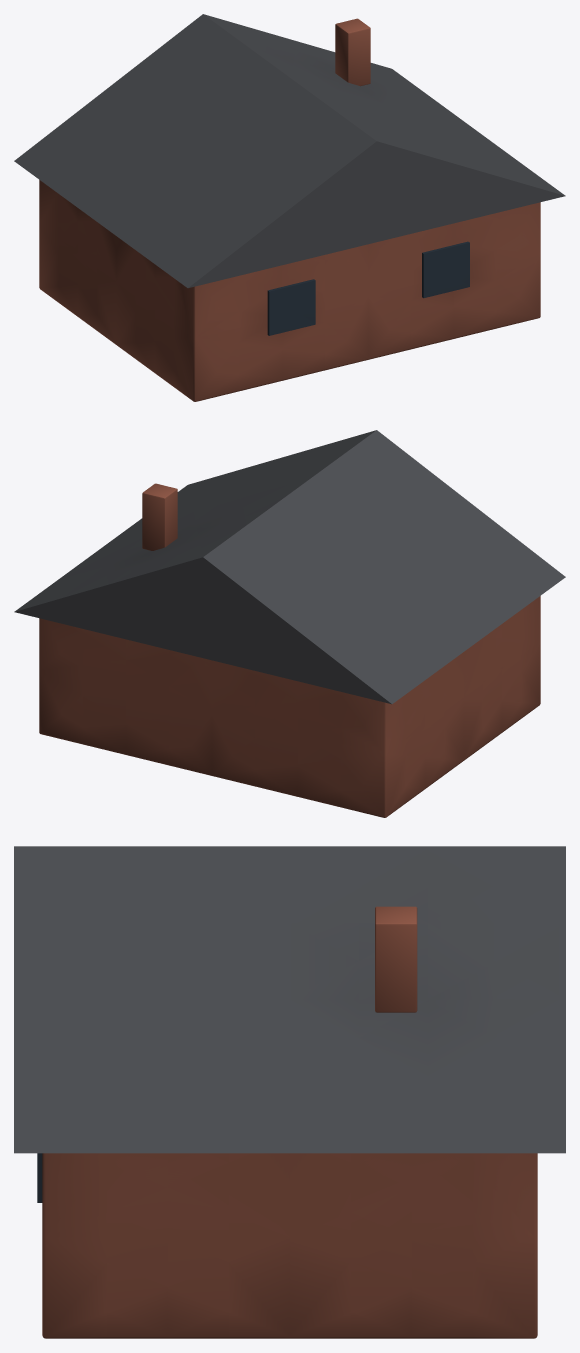
File: house.glb
3 renders of one model, top to bottom at view 1: azimuth 30°, elevation 25°; view 2: azimuth 150°, elevation 25°; view 3: azimuth 270°, elevation 25°, orthographic. The views are drawn at different scales.
Visible parts, largest first — view 1: Cube; view 2: Cube; view 3: Cube.
Part boxes in pixels (x1,y1,x2,y2): Cube: [14, 14, 565, 401]; Cube: [14, 430, 565, 817]; Cube: [14, 846, 565, 1338].
Bounding box in the file's own units: 9.8 × 5.7 × 7.8.
